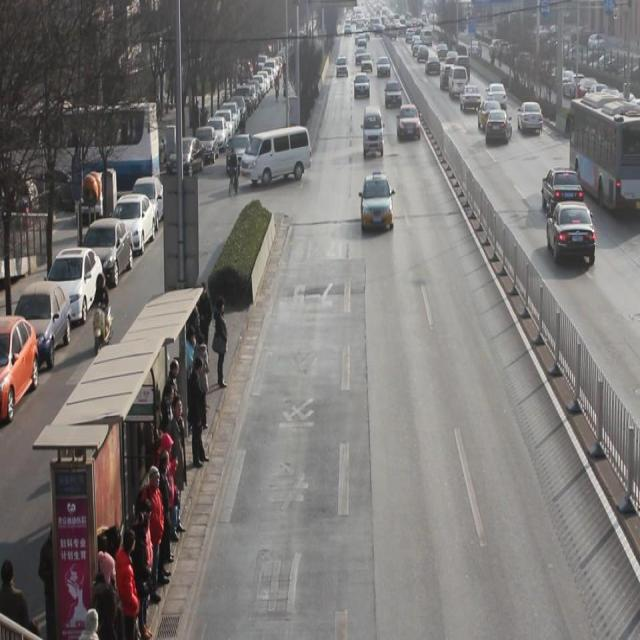car: (548, 199, 597, 266), (545, 165, 585, 217), (362, 172, 396, 230), (487, 108, 514, 144), (519, 98, 545, 134), (398, 103, 422, 141), (480, 98, 504, 131), (488, 81, 509, 111), (461, 84, 483, 112), (386, 79, 405, 108), (441, 64, 458, 90), (356, 71, 372, 97)
truck: (241, 124, 314, 185), (365, 102, 386, 159), (451, 64, 470, 100)
van: (568, 85, 640, 218)
